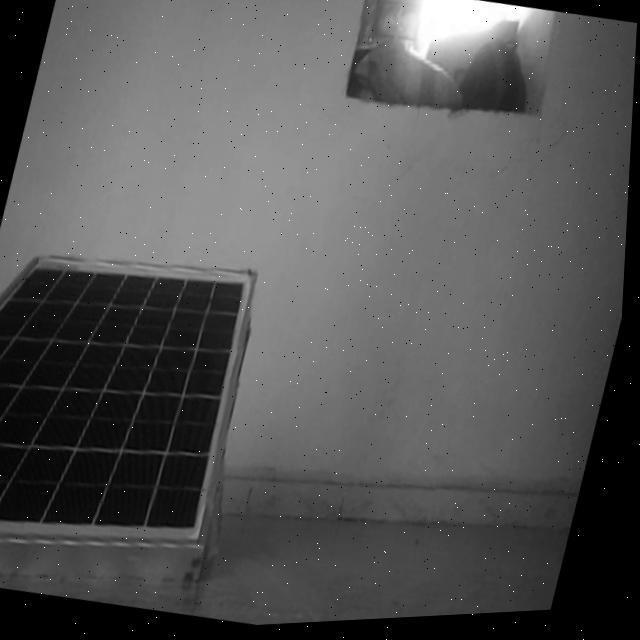Normal Solar Panel: (0, 225, 263, 566)
